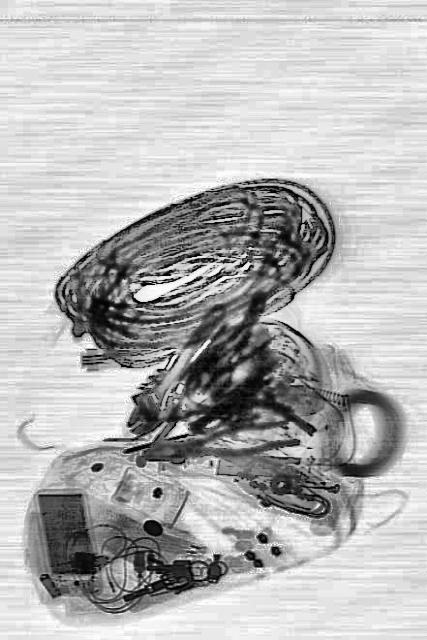Pliers: (141, 411, 301, 473)
Wrench: (116, 286, 234, 448)
